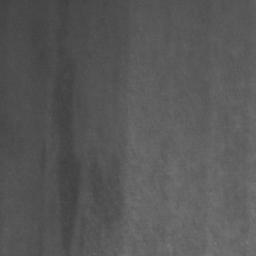Inclusion: (51, 59, 79, 251)
